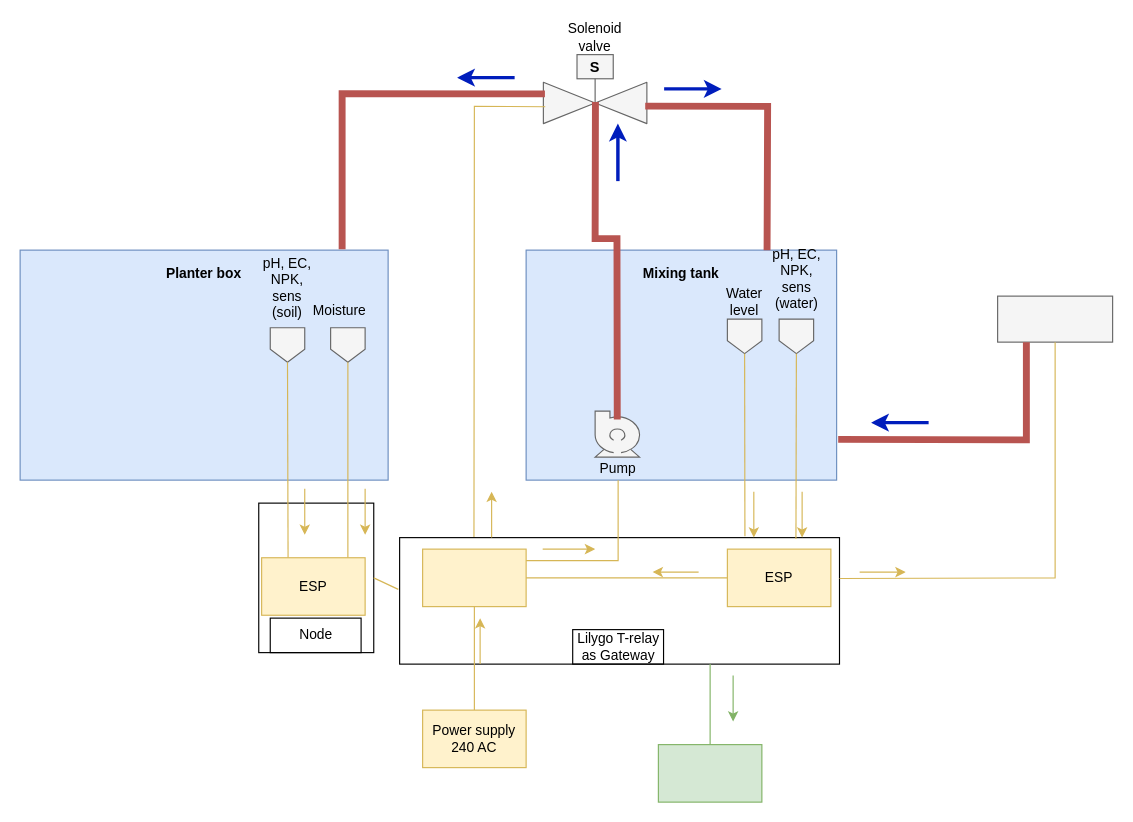
Image size: 1133x822. Some labels were removed from this diagram. Here are the shapes that lost their labels. From the top down, the centre of each, then its label:
At (1054,318): "Doser".
At (473,577): "Relay".
At (709,772): "AWS".
